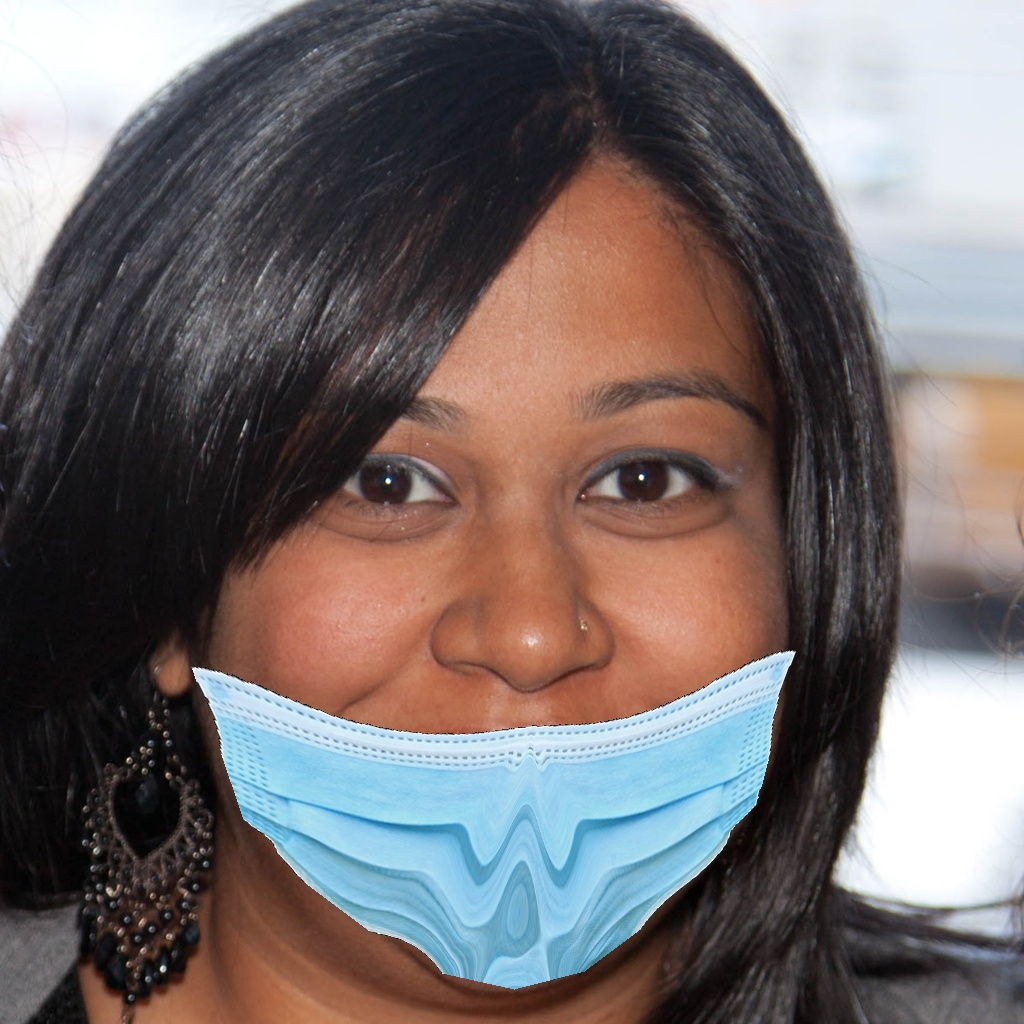mascarilla_mal_puesta: (229, 423, 832, 983)
